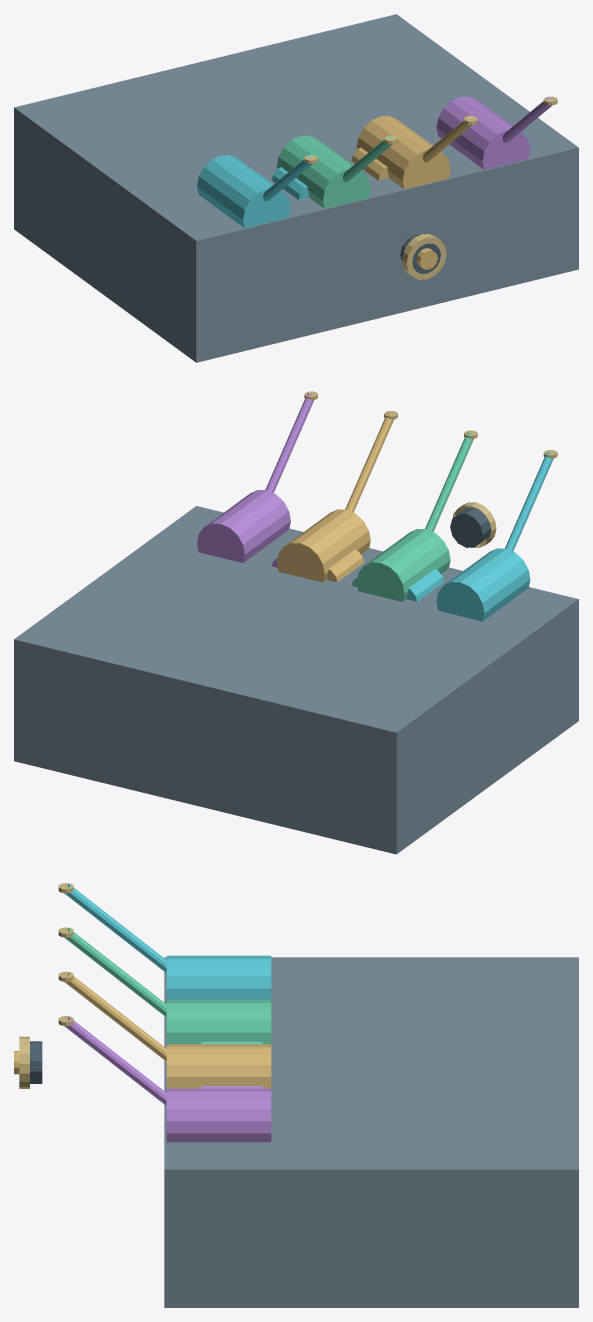
Rendered from 04_L81_OpticalTelemetryDock.glb.
3 renders of one model, top to bottom at view 1: azimuth 30°, elevation 25°; view 2: azimuth 150°, elevation 25°; view 3: azimuth 270°, elevation 25°, orthographic. The views are drawn at different scales.
Parts seen in each view (by area): view 1: OpticalTelemetryDock_Node_0000, OpticalTelemetryDock_Node_0001, OpticalTelemetryDock_Node_0013, OpticalTelemetryDock_Node_0009, OpticalTelemetryDock_Node_0005, OpticalTelemetryDock_Node_0023, OpticalTelemetryDock_Node_0002, OpticalTelemetryDock_Node_0014, OpticalTelemetryDock_Node_0006, OpticalTelemetryDock_Node_0010, OpticalTelemetryDock_Node_0020, OpticalTelemetryDock_Node_0018 (+1 smaller); view 2: OpticalTelemetryDock_Node_0000, OpticalTelemetryDock_Node_0001, OpticalTelemetryDock_Node_0013, OpticalTelemetryDock_Node_0009, OpticalTelemetryDock_Node_0005, OpticalTelemetryDock_Node_0022, OpticalTelemetryDock_Node_0002, OpticalTelemetryDock_Node_0010, OpticalTelemetryDock_Node_0014, OpticalTelemetryDock_Node_0006, OpticalTelemetryDock_Node_0020, OpticalTelemetryDock_Node_0018; view 3: OpticalTelemetryDock_Node_0000, OpticalTelemetryDock_Node_0013, OpticalTelemetryDock_Node_0001, OpticalTelemetryDock_Node_0009, OpticalTelemetryDock_Node_0005, OpticalTelemetryDock_Node_0006, OpticalTelemetryDock_Node_0010, OpticalTelemetryDock_Node_0014, OpticalTelemetryDock_Node_0002, OpticalTelemetryDock_Node_0023, OpticalTelemetryDock_Node_0022.
Part boxes in pixels (x1,y1,x2,y2): OpticalTelemetryDock_Node_0000: (14,14,578,362); OpticalTelemetryDock_Node_0001: (197,155,290,227); OpticalTelemetryDock_Node_0013: (436,96,530,169); OpticalTelemetryDock_Node_0009: (356,116,450,189); OpticalTelemetryDock_Node_0005: (277,135,370,208); OpticalTelemetryDock_Node_0023: (402,234,446,279); OpticalTelemetryDock_Node_0002: (263,155,313,201); OpticalTelemetryDock_Node_0014: (502,96,552,143); OpticalTelemetryDock_Node_0006: (343,135,392,181); OpticalTelemetryDock_Node_0010: (422,116,472,162); OpticalTelemetryDock_Node_0020: (351,147,388,180); OpticalTelemetryDock_Node_0018: (272,167,308,199); OpticalTelemetryDock_Node_0000: (14,506,578,854); OpticalTelemetryDock_Node_0001: (436,548,530,621); OpticalTelemetryDock_Node_0013: (197,490,290,562); OpticalTelemetryDock_Node_0009: (277,509,370,582); OpticalTelemetryDock_Node_0005: (356,529,450,601); OpticalTelemetryDock_Node_0022: (450,507,490,547); OpticalTelemetryDock_Node_0002: (505,452,553,551); OpticalTelemetryDock_Node_0010: (345,413,393,512); OpticalTelemetryDock_Node_0014: (265,393,313,492); OpticalTelemetryDock_Node_0006: (425,432,473,531); OpticalTelemetryDock_Node_0020: (327,549,364,582); OpticalTelemetryDock_Node_0018: (407,569,443,601); OpticalTelemetryDock_Node_0000: (164,957,578,1307); OpticalTelemetryDock_Node_0013: (166,1088,271,1142); OpticalTelemetryDock_Node_0001: (166,955,271,999); OpticalTelemetryDock_Node_0009: (166,1044,271,1088); OpticalTelemetryDock_Node_0005: (166,1000,271,1044); OpticalTelemetryDock_Node_0006: (64,928,166,1017); OpticalTelemetryDock_Node_0010: (64,972,166,1061); OpticalTelemetryDock_Node_0014: (64,1017,166,1105); OpticalTelemetryDock_Node_0002: (64,884,166,972); OpticalTelemetryDock_Node_0023: (19,1036,29,1088); OpticalTelemetryDock_Node_0022: (30,1041,42,1083).
Size of the model in its own units: 1.15 by 0.6338 by 1.29.
